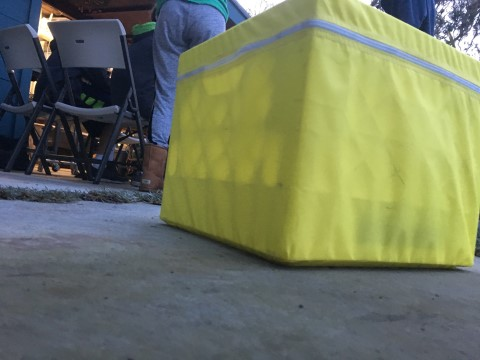cube: (160, 1, 480, 268)
